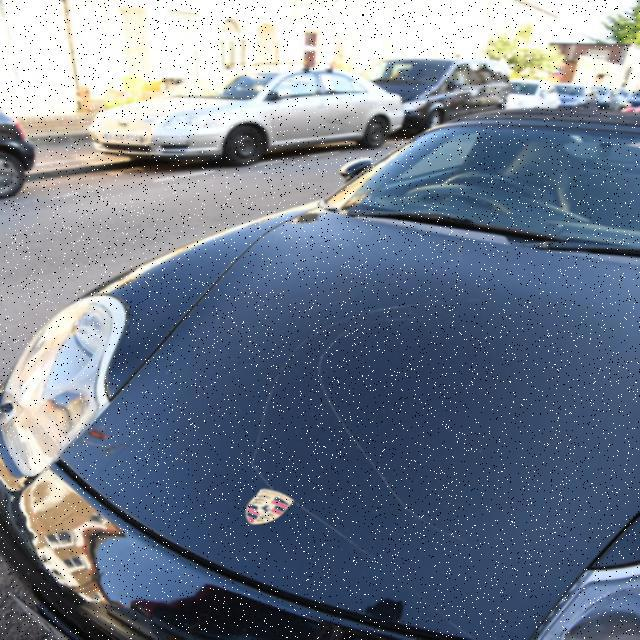bonnet-dent: (61, 226, 602, 594)
